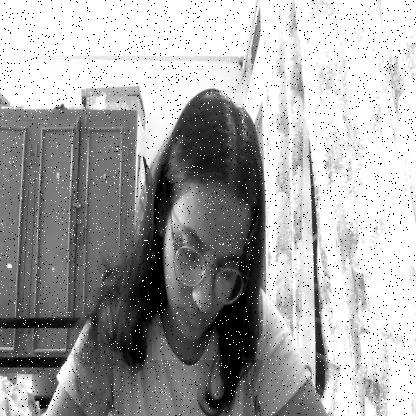Distracted: (152, 92, 266, 361)
